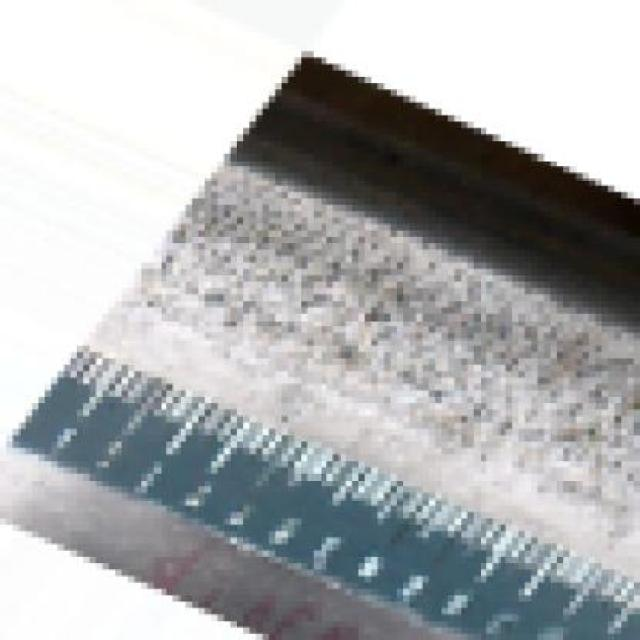defective: (0, 47, 638, 638)
